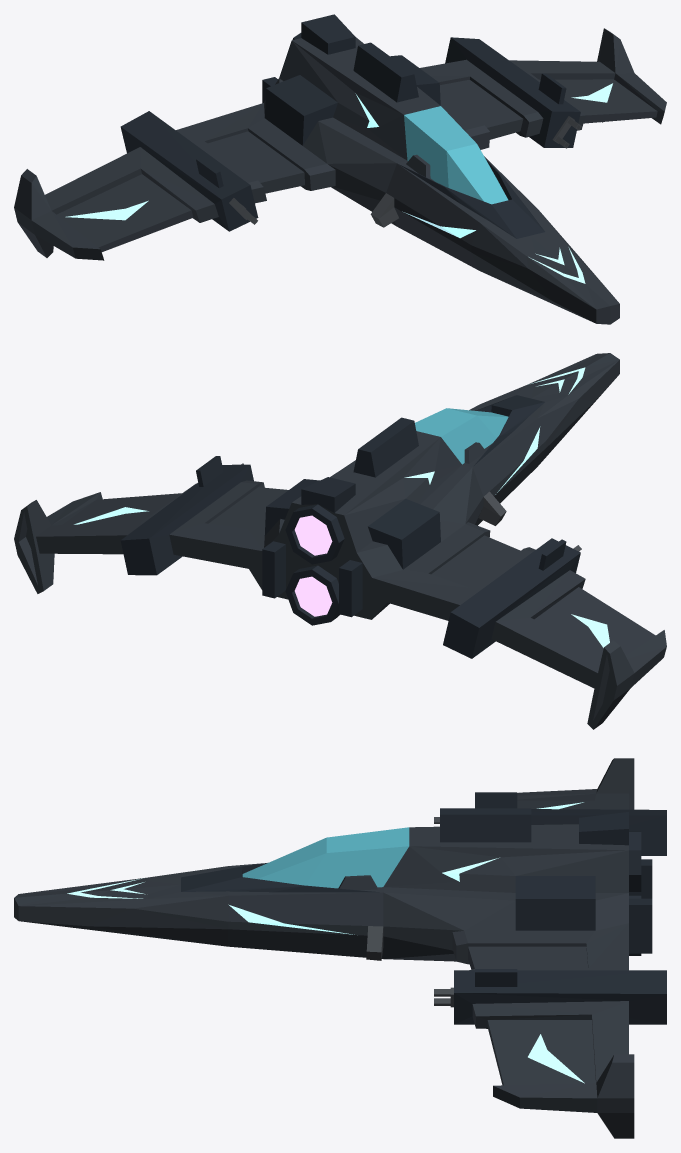
File: ship.gltf
3 views of the same model, one above another, from view 1: azimuth 30°, elevation 25°; view 2: azimuth 150°, elevation 25°; view 3: azimuth 270°, elevation 25° (orthographic). The views are drawn at different scales.
Visible parts, largest first — view 1: Renault (S, T1); view 2: Renault (S, T1); view 3: Renault (S, T1).
Boxes of the visible parts, <box> form: Renault (S, T1): <box>14,14,666,324</box>; Renault (S, T1): <box>14,353,666,729</box>; Renault (S, T1): <box>14,758,666,1138</box>.
Size of the model in its own units: 10.03 by 2.79 by 8.94.
